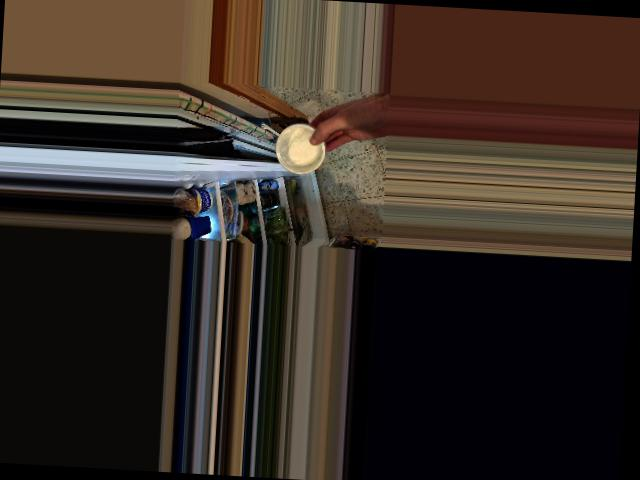cotage: (271, 120, 325, 175)
